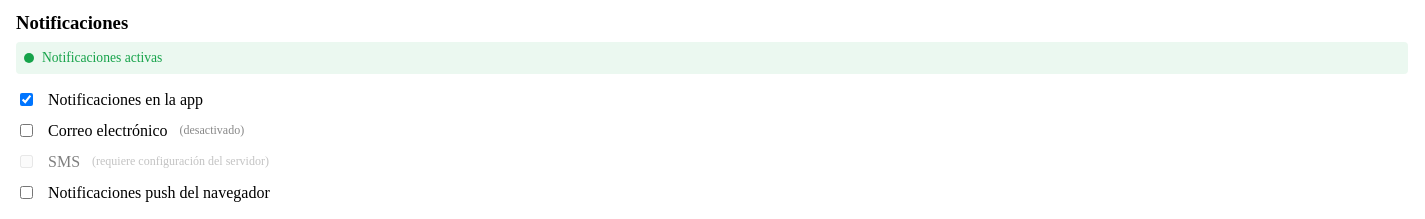
Test: NotificationSettingsForm › toggle is disabled while pending
Click the checkbox labelled "Notificaciones push del navegador".
click(26, 192)  # box x1=20 y1=186 x2=33 y2=199
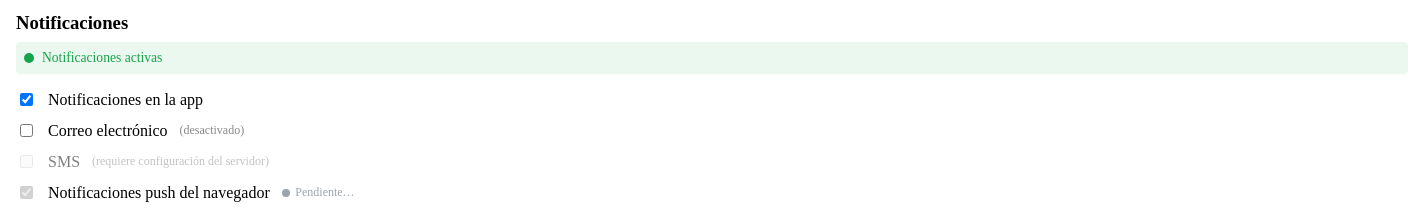
Expected: the text "Pendiente…" is shown, x1=282 y1=185 x2=355 y2=200
Expected: the checkbox labelled "Notificaciones push del navegador Pendiente…" is disabled, x1=20 y1=186 x2=33 y2=199
